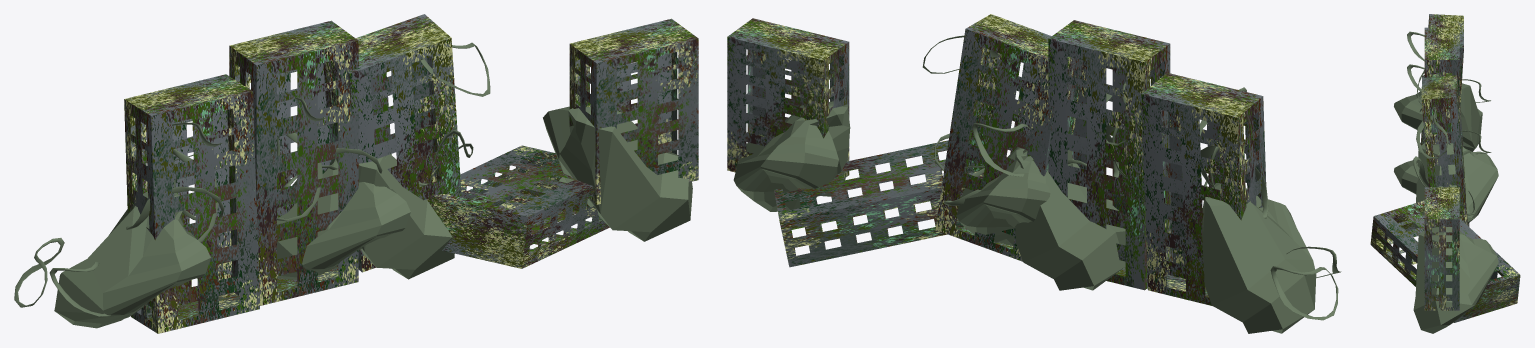
The model's file is moss-building-bushes-fallen-ver1.glb.
The picture shows the model from 3 angles, left to right: view 1: azimuth 30°, elevation 25°; view 2: azimuth 150°, elevation 25°; view 3: azimuth 270°, elevation 25°; orthographic projection. The views are drawn at different scales.
Visible parts, largest first — view 1: moss-building-bushes-fallen-ver1; view 2: moss-building-bushes-fallen-ver1; view 3: moss-building-bushes-fallen-ver1.
Part boxes in pixels (<box>): moss-building-bushes-fallen-ver1: <box>14,14,698,333</box>; moss-building-bushes-fallen-ver1: <box>727,14,1341,333</box>; moss-building-bushes-fallen-ver1: <box>1370,14,1520,333</box>.
Bounding box in the file's own units: 29.48 × 11.79 × 9.08.
Materials: 6 (5 with a texture image).
